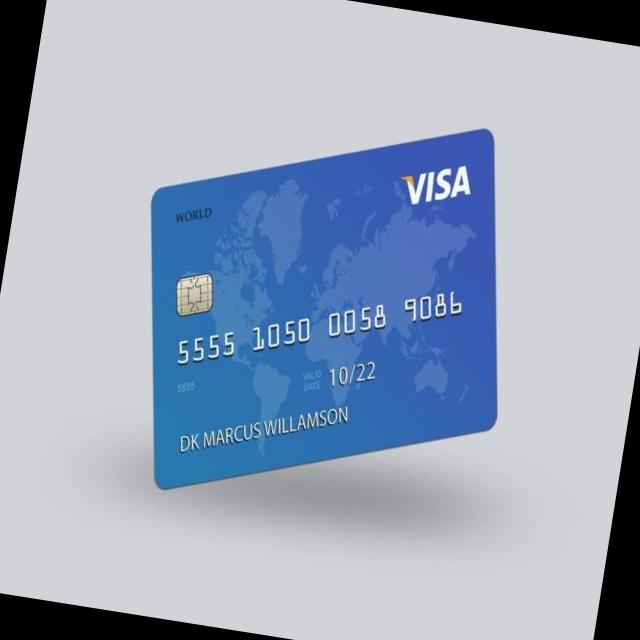card: (149, 123, 502, 493)
